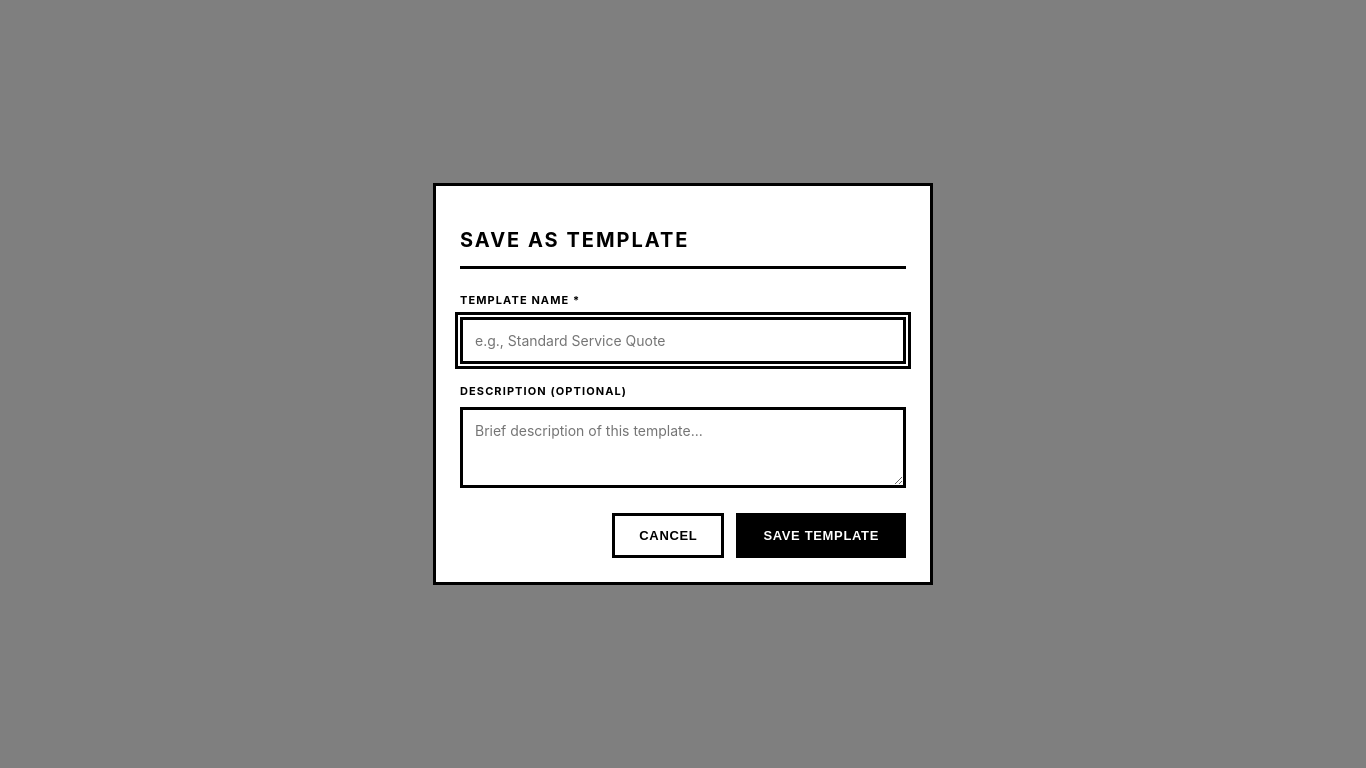
Test case: SaveTemplateModal › shows the server error and stays open
The width and height of the screenshot is (1366, 768).
In the field with placeholder "e.g., Standard Service Quote": x=683, y=340 [460, 317, 906, 364], type "X"
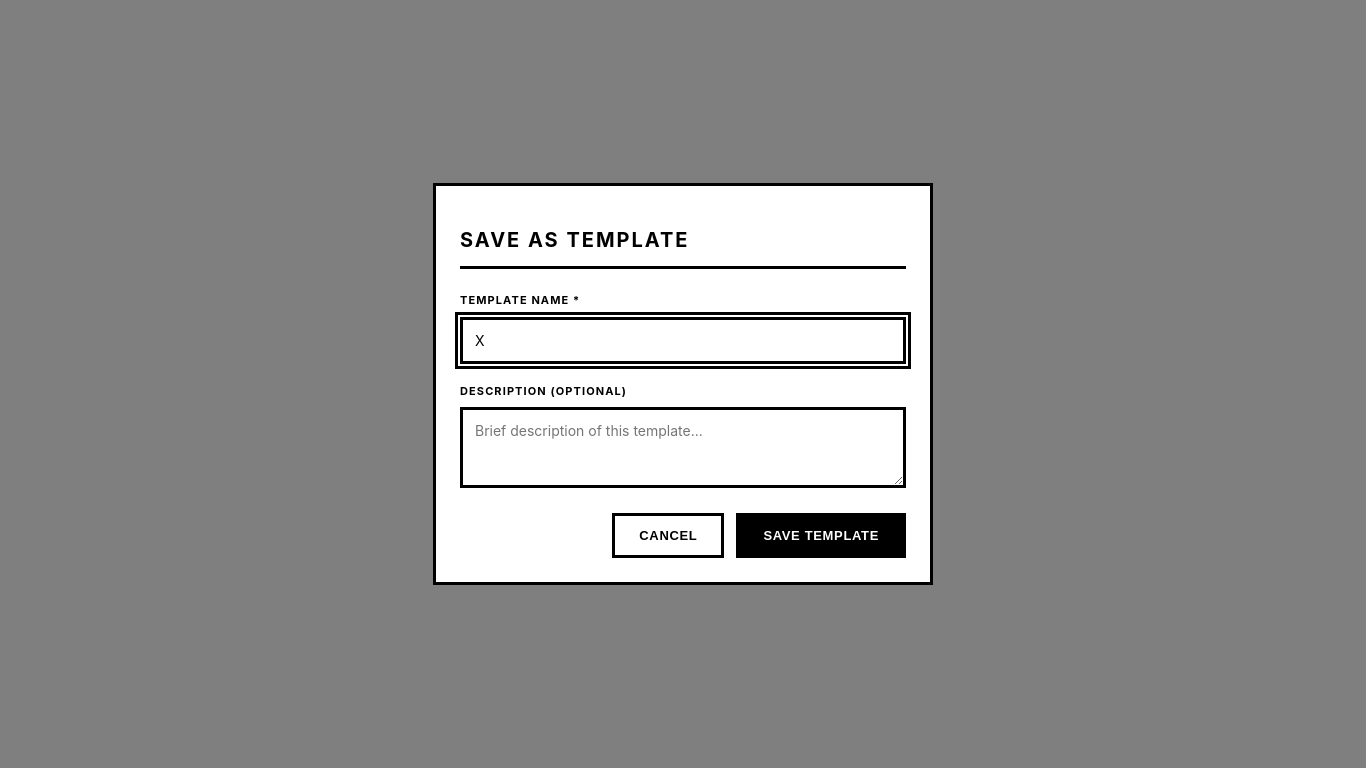
Click the button "SAVE TEMPLATE": x=821, y=536 [736, 513, 906, 558]
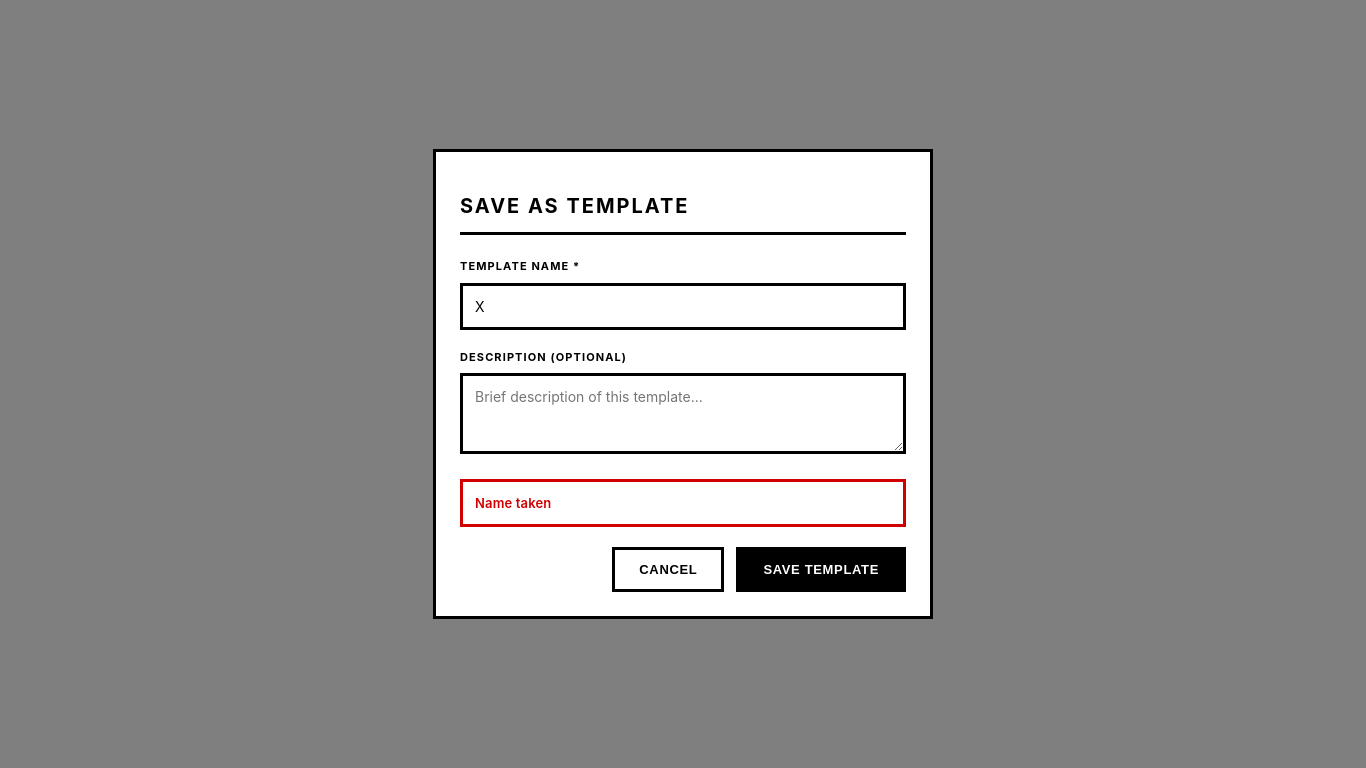
Result: the text "Name taken" is shown at [460, 479, 906, 528]
